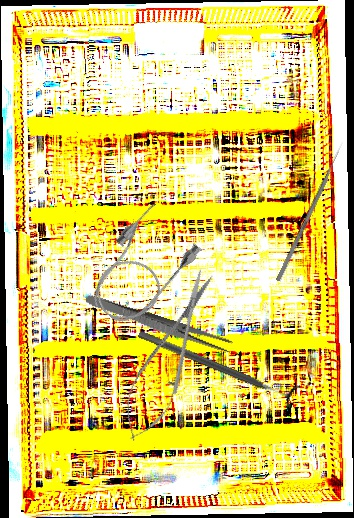Cannula: (75, 198, 207, 336)
Dressing Forceps: (83, 292, 234, 355)
Fixation Ring: (134, 321, 301, 410)
Micro Scissor: (111, 261, 228, 450)
Pusher: (275, 141, 346, 282)
